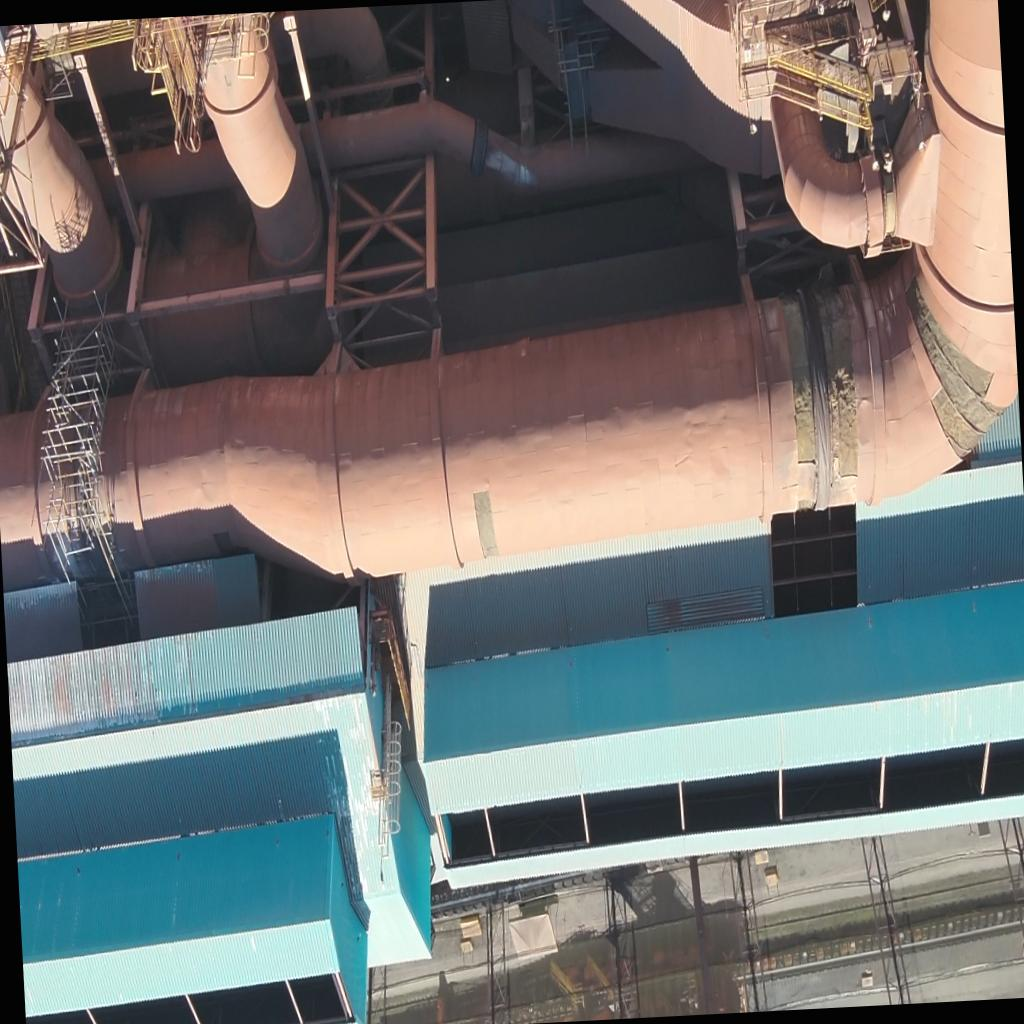Failures: (906, 292, 1019, 454), (825, 310, 864, 478), (790, 292, 820, 467), (473, 476, 504, 561)
